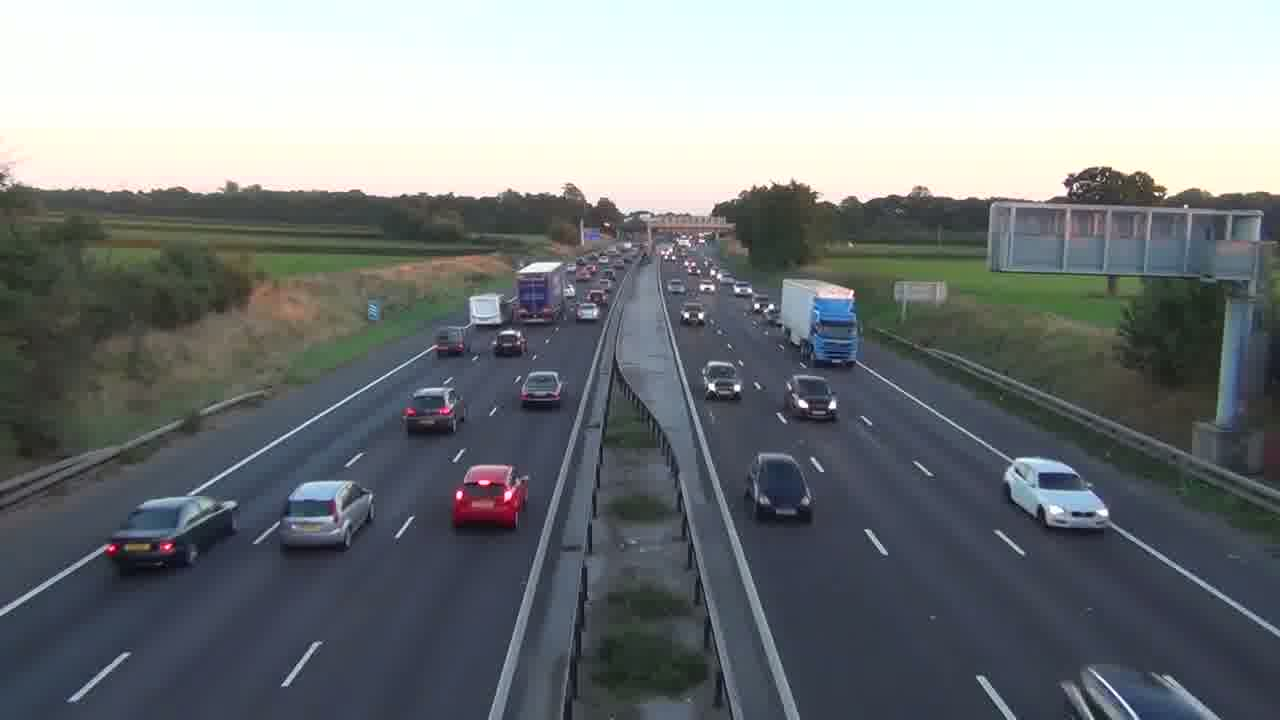car: (1058, 663, 1222, 719), (1002, 456, 1111, 532), (279, 479, 376, 551), (451, 463, 530, 529), (744, 451, 815, 520), (401, 386, 466, 435), (783, 373, 839, 422), (518, 369, 564, 408), (701, 360, 743, 401)
truck: (103, 493, 240, 573), (781, 278, 862, 367), (467, 293, 503, 326), (432, 324, 468, 357)
